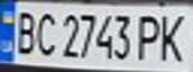2: (57, 9, 81, 60)
3: (112, 11, 136, 61)
4: (93, 10, 115, 61)
7: (75, 10, 96, 60)
B: (9, 7, 39, 56)
C: (30, 8, 60, 59)
K: (154, 9, 190, 64)
P: (133, 10, 166, 62)
